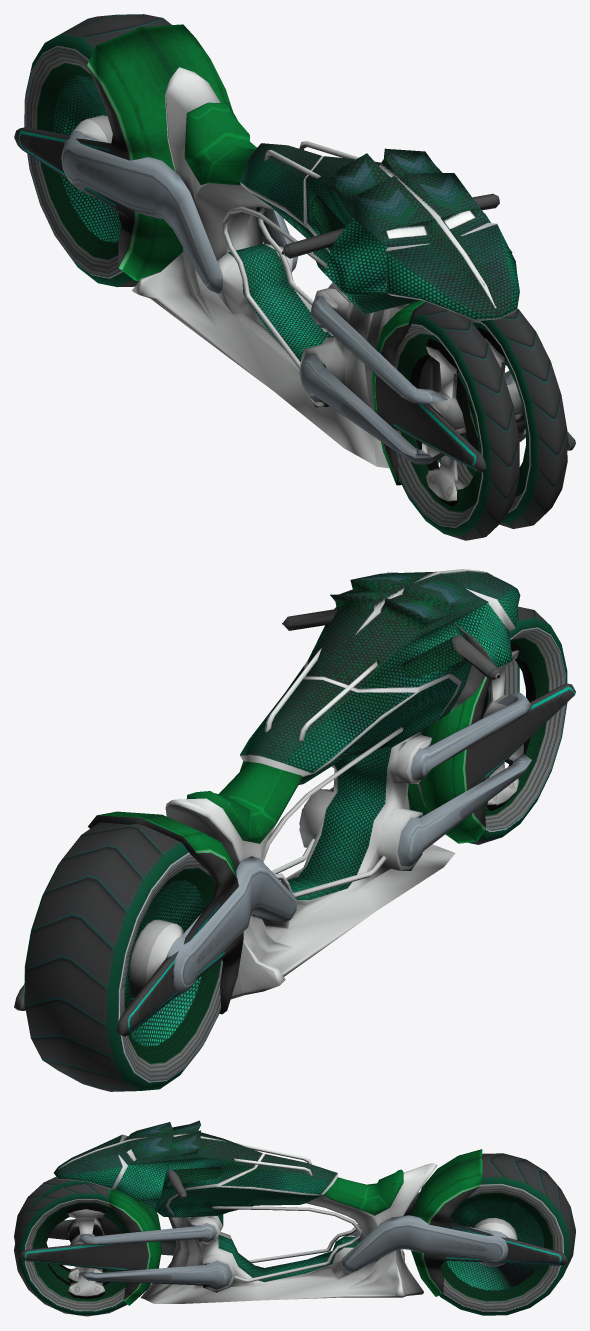
File: bike.fbx
3 views of the same model, one above another, from view 1: azimuth 30°, elevation 25°; view 2: azimuth 150°, elevation 25°; view 3: azimuth 270°, elevation 25° (orthographic). The views are drawn at different scales.
Visible parts, largest first — view 1: bike; view 2: bike; view 3: bike.
Part boxes in pixels (x1=…): bike: x1=14, y1=14, x2=575, y2=540; bike: x1=14, y1=569, x2=575, y2=1091; bike: x1=14, y1=1120, x2=575, y2=1316.
Size of the model in its own units: 159 by 212 by 595.
